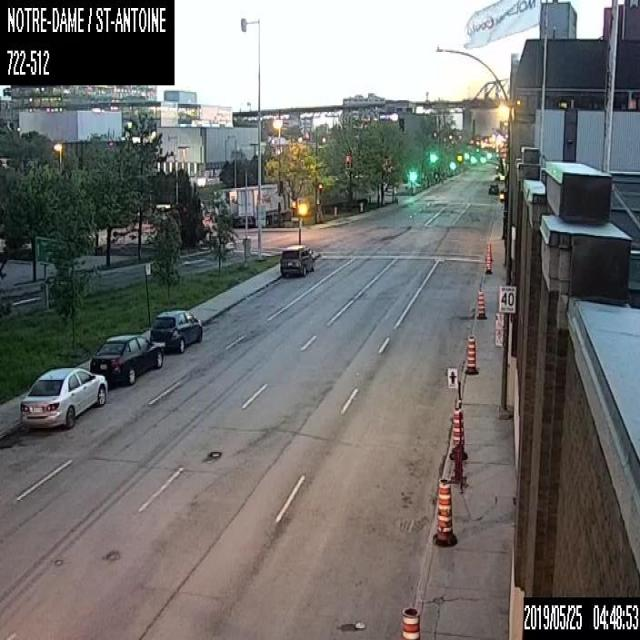construction: (431, 476, 460, 547), (399, 604, 420, 639), (451, 404, 465, 445), (463, 336, 478, 372), (476, 289, 488, 320), (484, 251, 492, 273)
vehicle: (18, 364, 108, 430), (90, 333, 162, 384), (149, 308, 202, 351), (238, 183, 288, 224), (278, 242, 314, 278), (220, 186, 237, 226), (487, 182, 498, 193)
